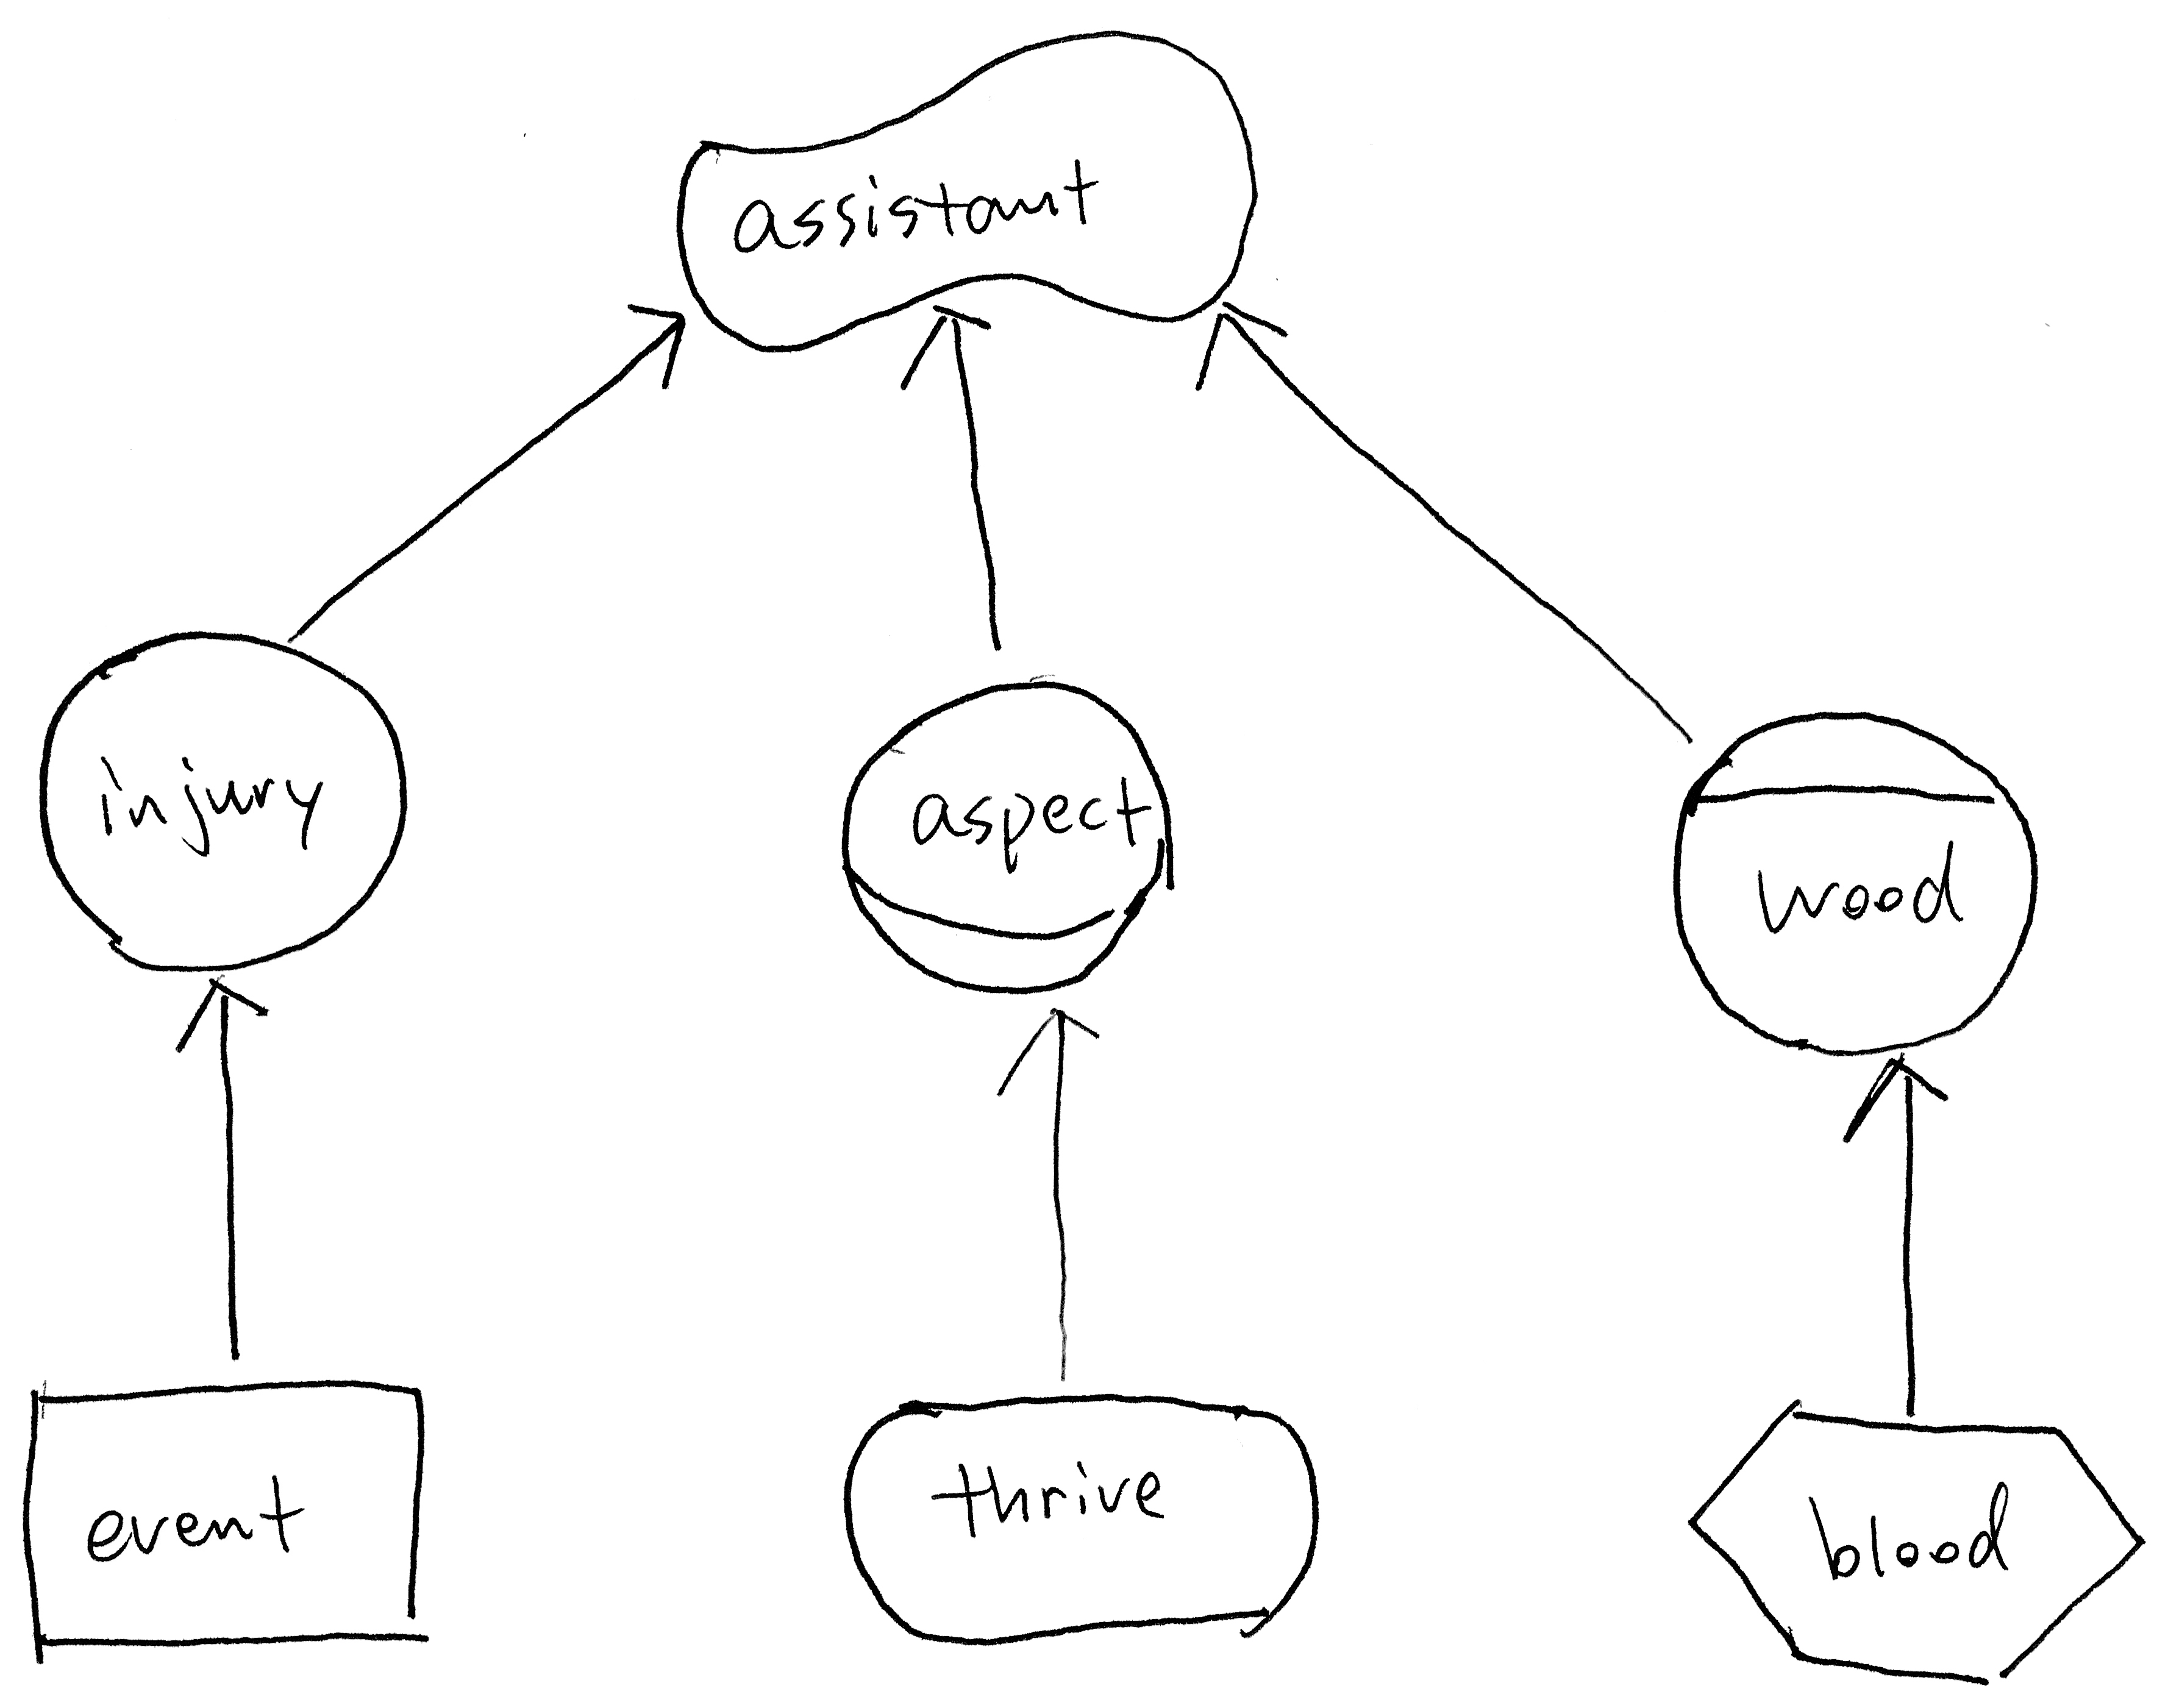actor: (16, 612, 431, 994)
agent: (1651, 693, 2059, 1080)
arrow: (959, 990, 1119, 1113), (1823, 1036, 1976, 1152), (1176, 281, 1311, 396), (598, 285, 707, 405), (892, 287, 1005, 401), (164, 967, 282, 1061)
goal: (834, 1365, 1343, 1661)
quality: (651, 12, 1272, 375)
resource: (4, 1356, 450, 1673)
role: (815, 665, 1190, 1015)
task: (1666, 1376, 2157, 1697)
